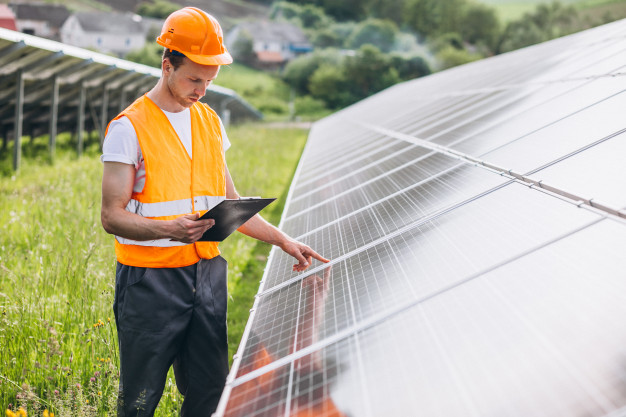Hard Hat: (156, 9, 234, 107)
Person: (97, 8, 329, 404)
Vest: (103, 48, 238, 266)
